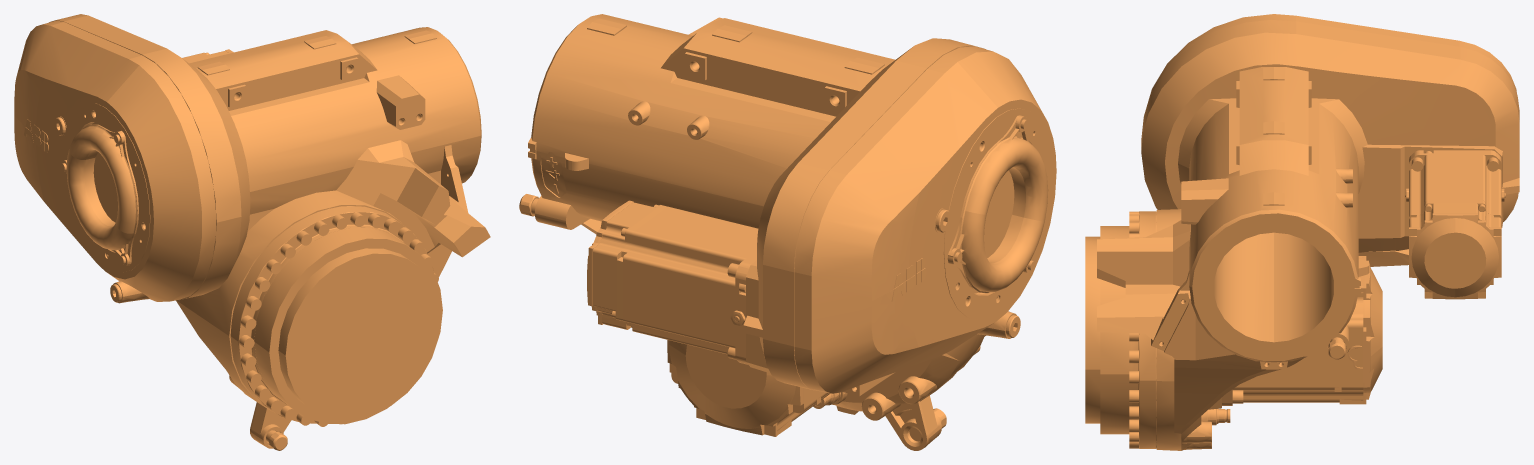
The picture shows the model from 3 angles, left to right: view 1: azimuth 30°, elevation 25°; view 2: azimuth 150°, elevation 25°; view 3: azimuth 270°, elevation 25°; orthographic projection. The views are drawn at different scales.
Visible parts, largest first — view 1: mesh_0; view 2: mesh_0; view 3: mesh_0.
Boxes of the visible parts, bbox=[...] form: mesh_0: bbox=[14, 14, 490, 450]; mesh_0: bbox=[519, 14, 1056, 450]; mesh_0: bbox=[1085, 14, 1519, 450].
Bounding box in the file's own units: 0.6149 × 0.5882 × 0.61.
